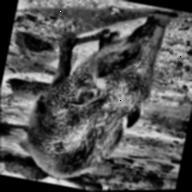boar: (11, 0, 182, 192)
